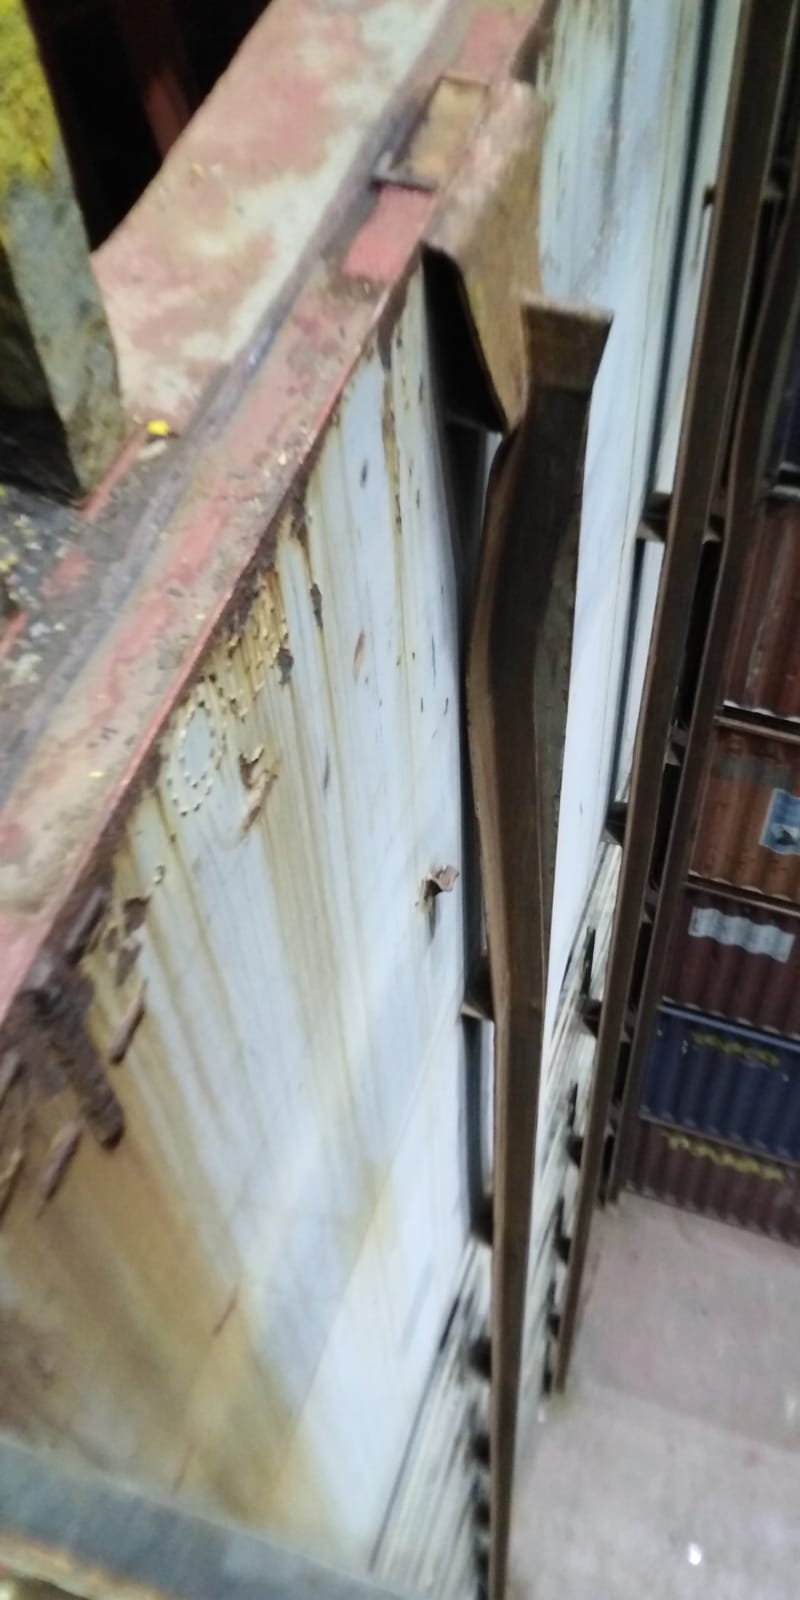cut: (411, 872, 481, 927)
rust: (8, 458, 343, 1130)
